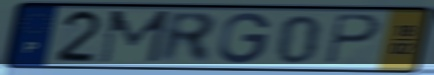0: (276, 13, 326, 65)
2: (53, 8, 106, 65)
G: (216, 11, 274, 66)
M: (95, 9, 173, 65)
P: (324, 12, 384, 67)
R: (158, 10, 219, 65)
